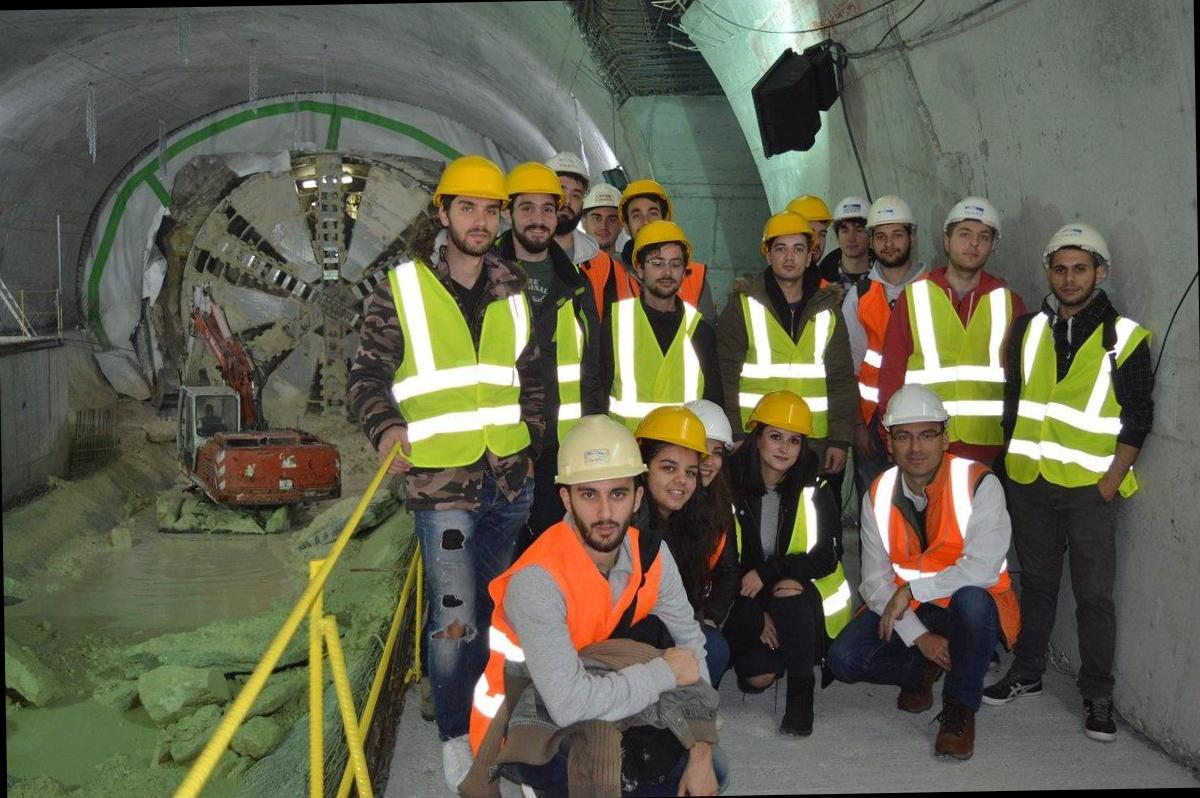Vest: (396, 268, 536, 464), (1025, 318, 1128, 502), (911, 282, 1012, 422), (609, 297, 710, 412), (741, 298, 840, 398)
